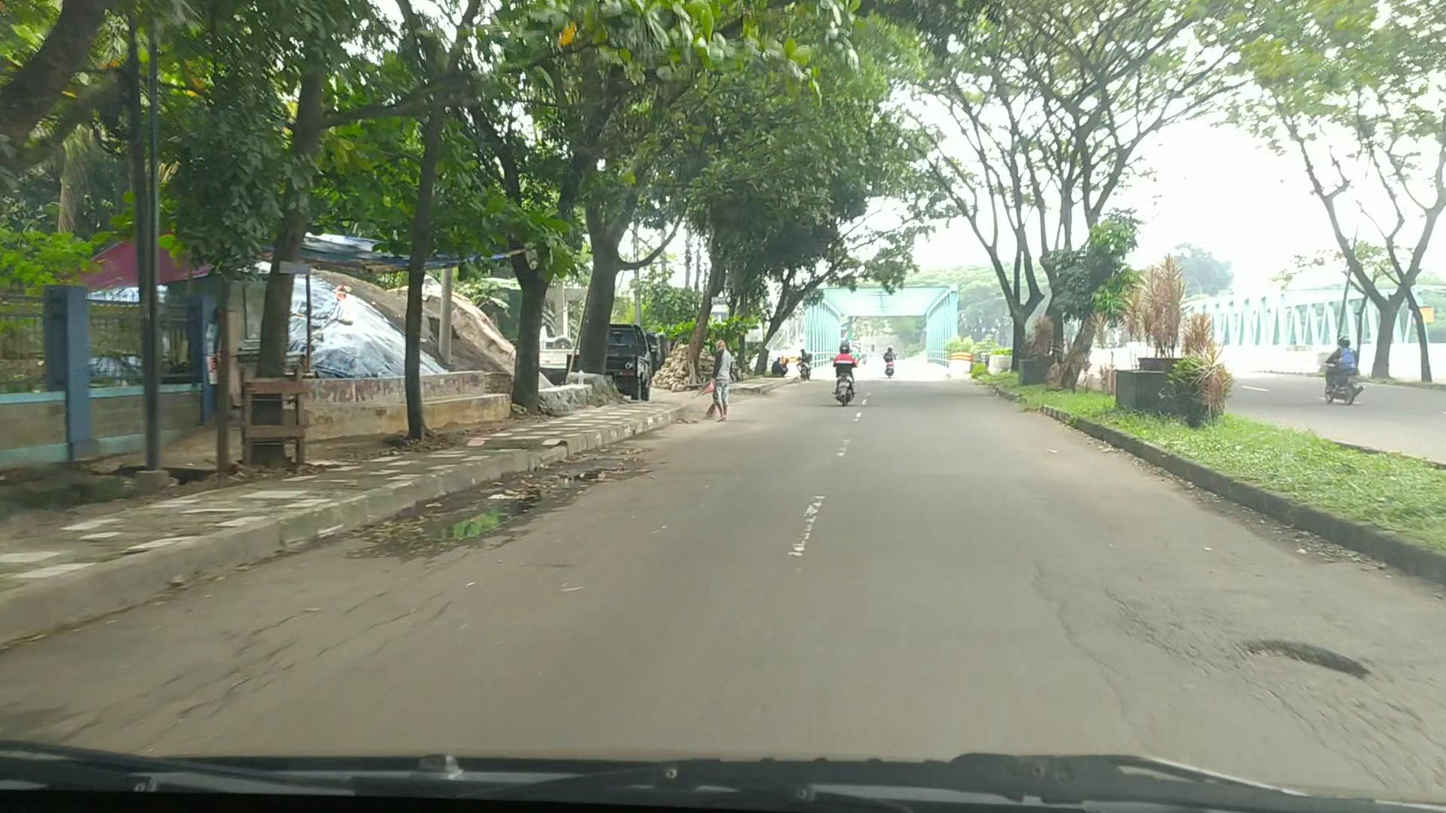pothole: (416, 482, 547, 545), (1234, 635, 1375, 680), (551, 464, 621, 486)
